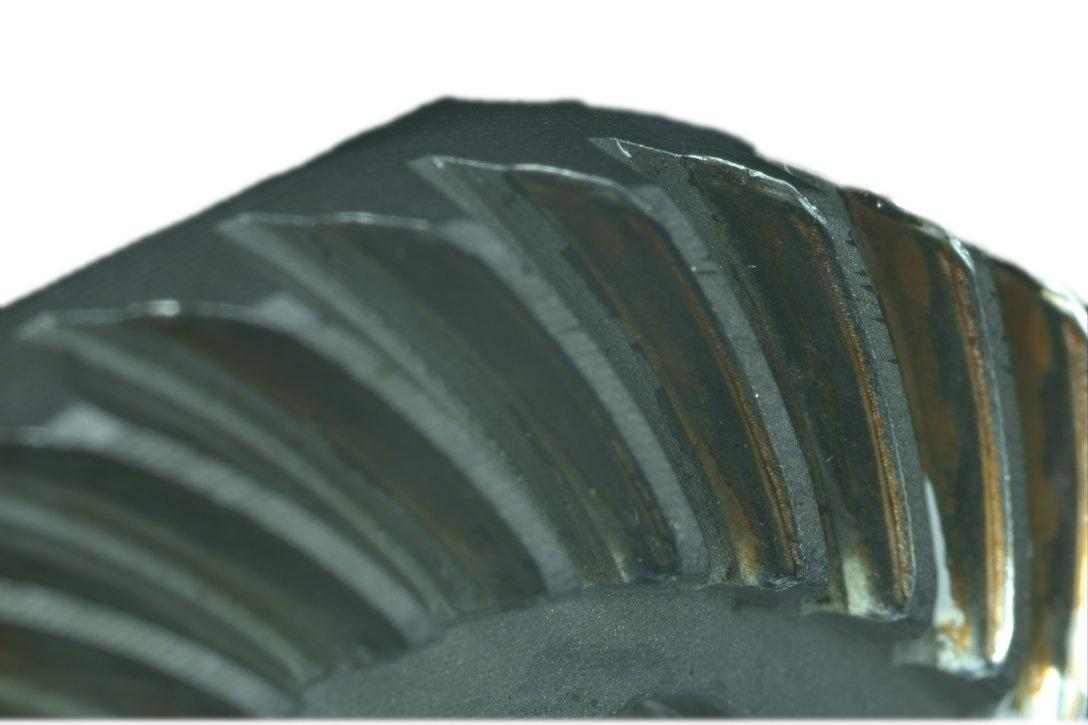defect: (452, 156, 808, 563), (682, 148, 915, 608), (859, 187, 1009, 656), (1026, 264, 1087, 659)
